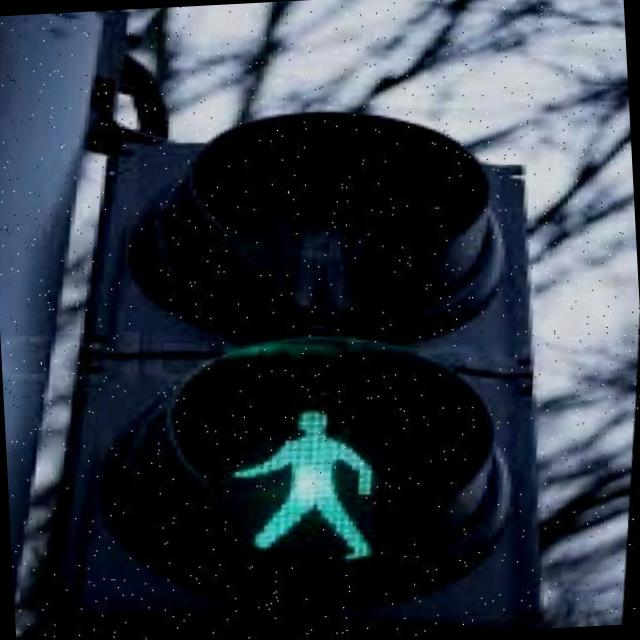green_light: (234, 387, 415, 566)
